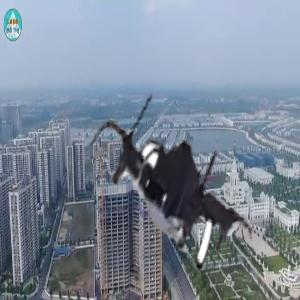drone: (74, 87, 280, 293)
